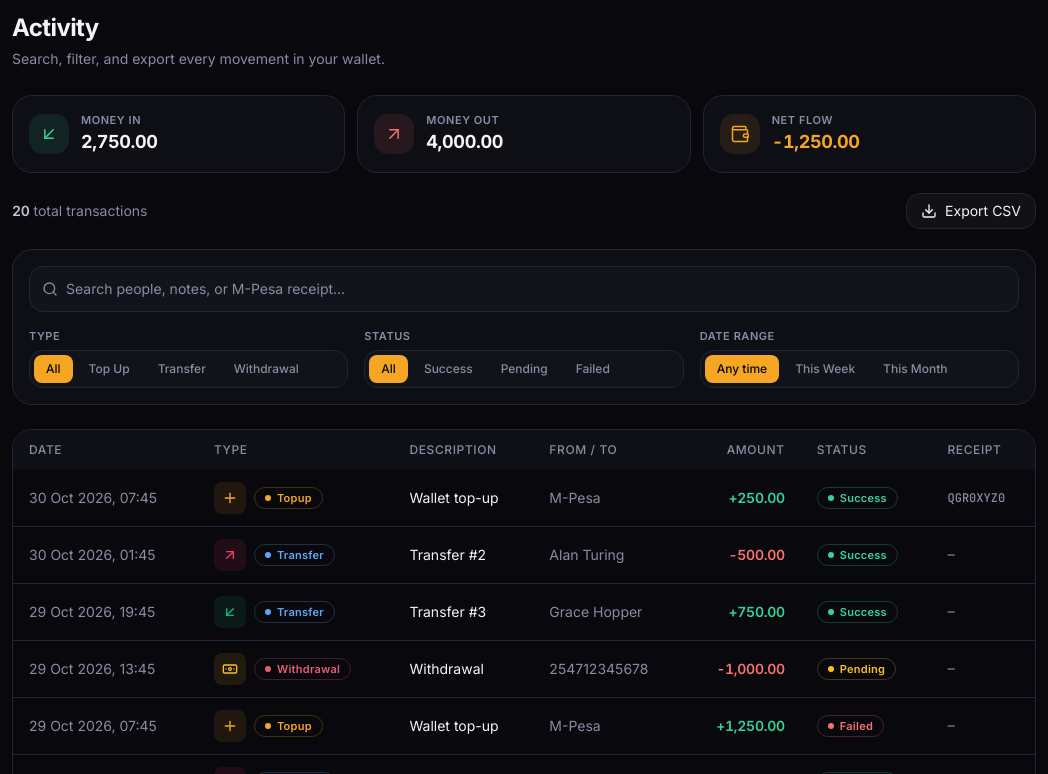
Test: Transactions › filters by status
The width and height of the screenshot is (1048, 774).
Click the button "Failed" at (593, 369), box [564,355,622,383]
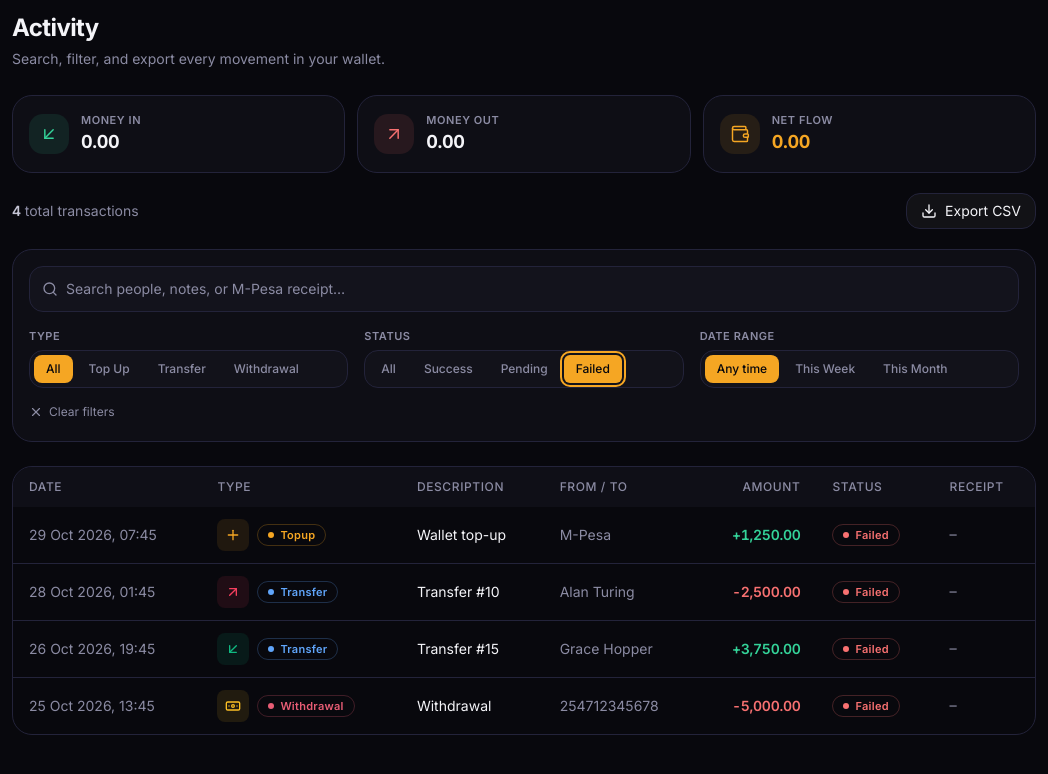
Check: the text "Failed" is shown 4 times, box [832,524,900,546]; [832,581,900,603]; [832,638,900,660]; [832,695,900,717]
